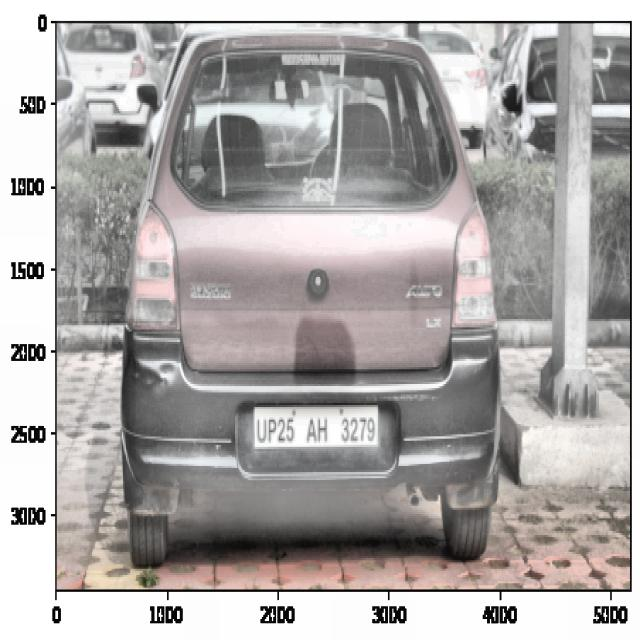license_plate: (253, 402, 380, 454)
